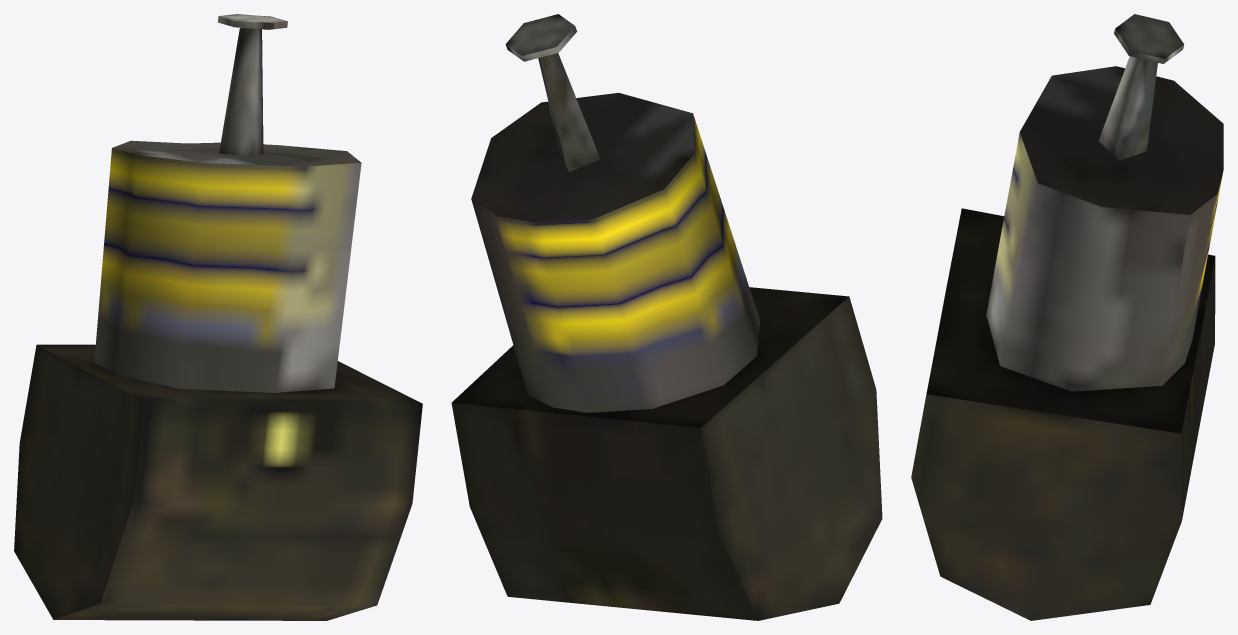
Rendered from tinkerer_remote.glb.
3 views of the same model, side by side, from view 1: azimuth 30°, elevation 25°; view 2: azimuth 150°, elevation 25°; view 3: azimuth 270°, elevation 25° (orthographic). The views are drawn at different scales.
Parts seen in each view (by area): view 1: weapons/tinkerer_remote_0; view 2: weapons/tinkerer_remote_0; view 3: weapons/tinkerer_remote_0.
Boxes of the visible parts, left/top/right/bottom form: weapons/tinkerer_remote_0: left=14, top=14, right=422, bottom=620; weapons/tinkerer_remote_0: left=451, top=14, right=882, bottom=620; weapons/tinkerer_remote_0: left=911, top=14, right=1223, bottom=620.
Bounding box in the file's own units: 1.14 × 2 × 0.9662.
1 material, 1 textured.
